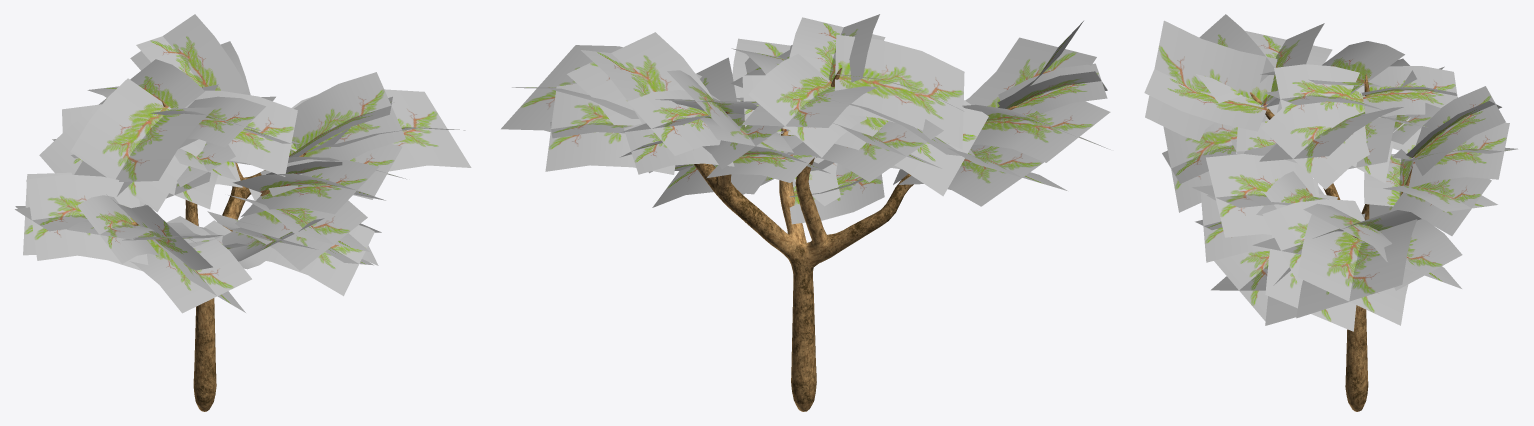
Rendered from SabannaWood_03.fbx.
The picture shows the model from 3 angles, left to right: view 1: azimuth 30°, elevation 25°; view 2: azimuth 150°, elevation 25°; view 3: azimuth 270°, elevation 25°; orthographic projection. The views are drawn at different scales.
Parts seen in each view (by area): view 1: SabannaWood_03; view 2: SabannaWood_03; view 3: SabannaWood_03.
Boxes of the visible parts, box(x1,y1,x2,y2) form: SabannaWood_03: box(15, 14, 471, 411); SabannaWood_03: box(501, 14, 1110, 411); SabannaWood_03: box(1144, 14, 1517, 411).
Bounding box in the file's own units: 1116 × 763 × 768.
